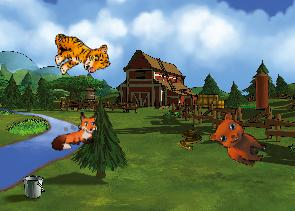bear: (205, 109, 274, 170)
fox: (46, 108, 104, 153)
tiger: (49, 25, 111, 80)
